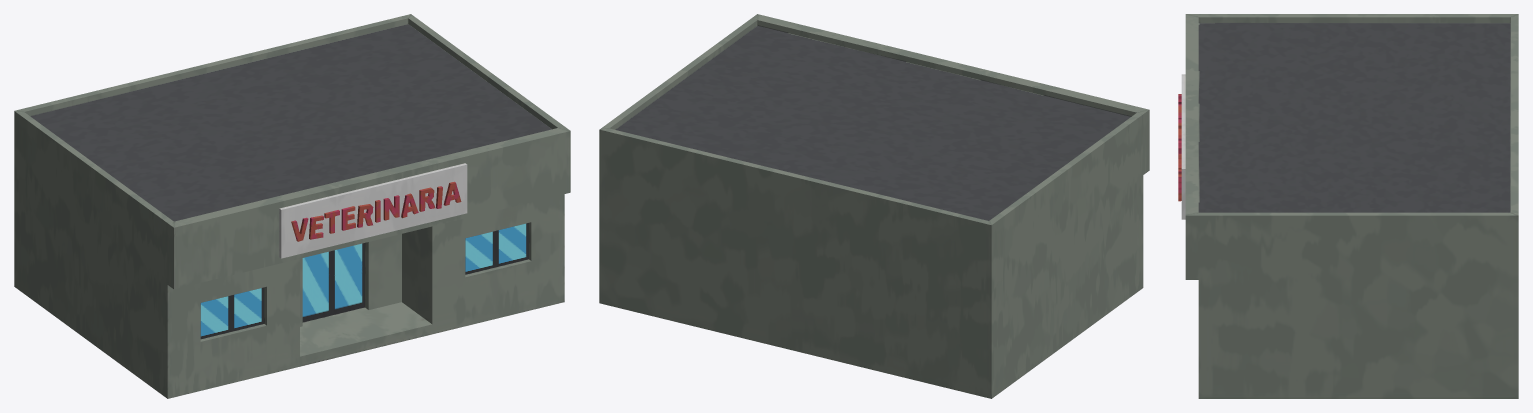
The model's file is VeterinaryBase.fbx.
The picture shows the model from 3 angles, left to right: view 1: azimuth 30°, elevation 25°; view 2: azimuth 150°, elevation 25°; view 3: azimuth 270°, elevation 25°; orthographic projection. The views are drawn at different scales.
Parts seen in each view (by area): view 1: VeterinaryBase; view 2: VeterinaryBase; view 3: VeterinaryBase.
Part boxes in pixels (x1=…): VeterinaryBase: x1=14, y1=14, x2=570, y2=398; VeterinaryBase: x1=599, y1=14, x2=1149, y2=398; VeterinaryBase: x1=1178, y1=14, x2=1518, y2=398.
Bounding box in the file's own units: 1000 × 423 × 713.
